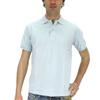abbigliamento_uomo: (22, 16, 86, 94)
